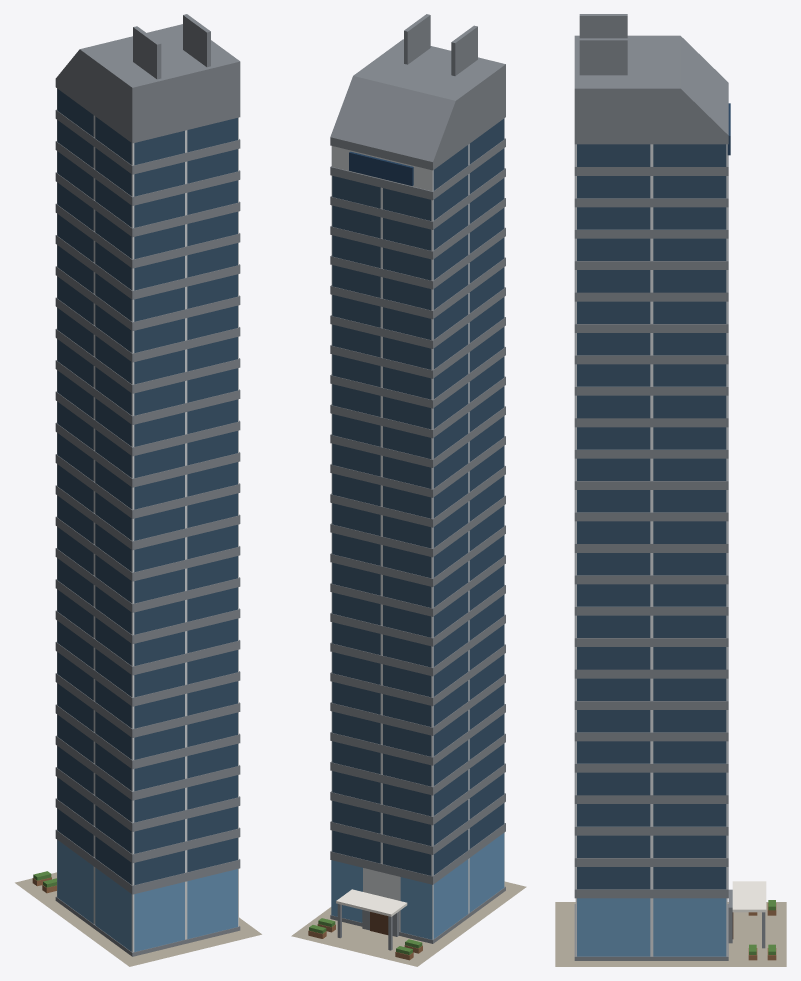
3 renders of one model, left to right at view 1: azimuth 30°, elevation 25°; view 2: azimuth 150°, elevation 25°; view 3: azimuth 270°, elevation 25°, orthographic. The views are drawn at different scales.
Parts seen in each view (by area): view 1: window_band (×96), spandrel (×26), crown, storefront (×4), walls (×2), plaza, crown_fin (×2); view 2: window_band (×94), spandrel (×26), crown, walls (×2), storefront (×4), plaza, crown_fin (×2), sign, canopy; view 3: window_band (×48), spandrel (×26), crown, storefront (×2), plaza, walls, crown_fin (×2), canopy.
Part boxes in pixels (bbox=[...]): window_band (×96): bbox=[57, 89, 237, 885]; spandrel (×26): bbox=[55, 79, 240, 956]; crown: bbox=[56, 24, 240, 134]; storefront (×4): bbox=[57, 840, 237, 951]; walls (×2): bbox=[57, 88, 238, 952]; plaza: bbox=[15, 872, 261, 966]; crown_fin (×2): bbox=[133, 14, 210, 79]; window_band (×94): bbox=[332, 118, 504, 875]; spandrel (×26): bbox=[330, 109, 505, 943]; crown: bbox=[330, 39, 505, 161]; walls (×2): bbox=[331, 118, 504, 939]; storefront (×4): bbox=[331, 833, 504, 939]; plaza: bbox=[291, 881, 526, 966]; crown_fin (×2): bbox=[404, 14, 477, 75]; sign: bbox=[349, 151, 413, 185]; canopy: bbox=[336, 889, 407, 916]; window_band (×48): bbox=[577, 144, 726, 889]; spandrel (×26): bbox=[574, 135, 728, 960]; crown: bbox=[574, 35, 728, 135]; storefront (×2): bbox=[577, 898, 726, 956]; plaza: bbox=[555, 902, 786, 966]; walls: bbox=[575, 144, 727, 889]; crown_fin (×2): bbox=[579, 14, 627, 75]; canopy: bbox=[732, 881, 766, 912].
Bounding box in the file's own units: 16 × 104 × 24.
